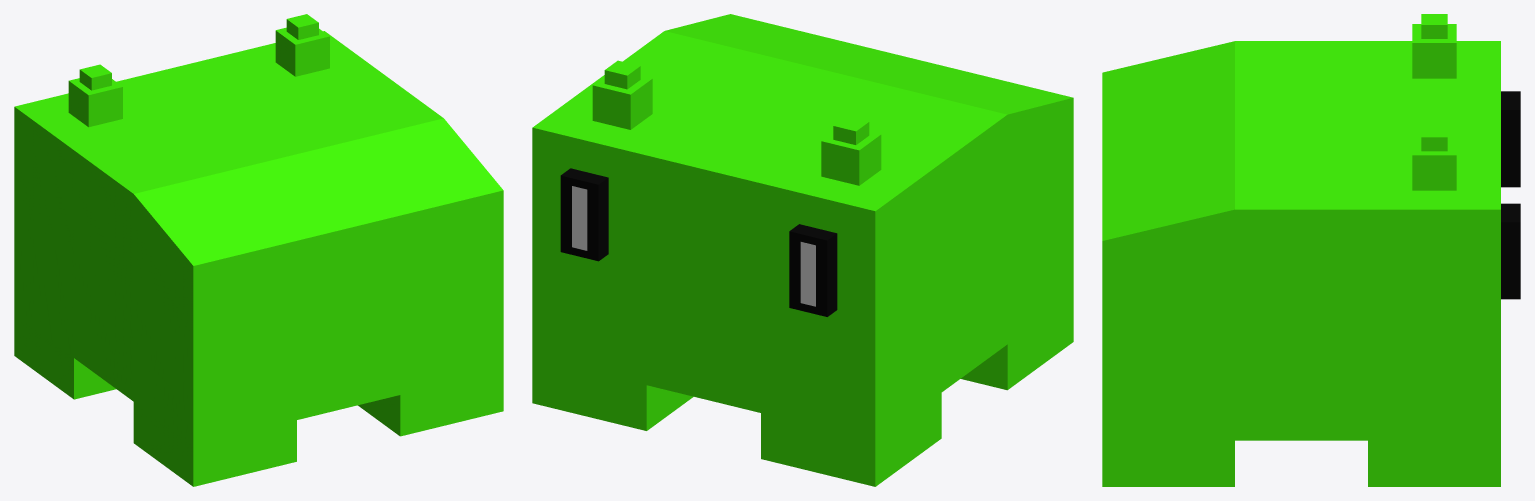
The model's file is character_fbx.fbx.
The picture shows the model from 3 angles, left to right: view 1: azimuth 30°, elevation 25°; view 2: azimuth 150°, elevation 25°; view 3: azimuth 270°, elevation 25°; orthographic projection. The views are drawn at different scales.
Visible parts, largest first — view 1: Cube; view 2: Cube; view 3: Cube.
Boxes of the visible parts, x1,y1,x2,y2 form: Cube: (14, 14, 503, 486); Cube: (532, 14, 1073, 486); Cube: (1102, 14, 1520, 486).
Size of the model in its own units: 50 by 45.27 by 52.5.
